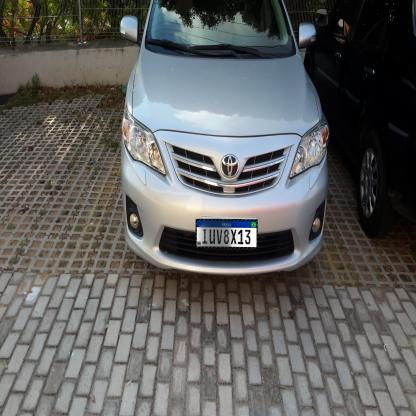PlacaM: (196, 219, 258, 249)
